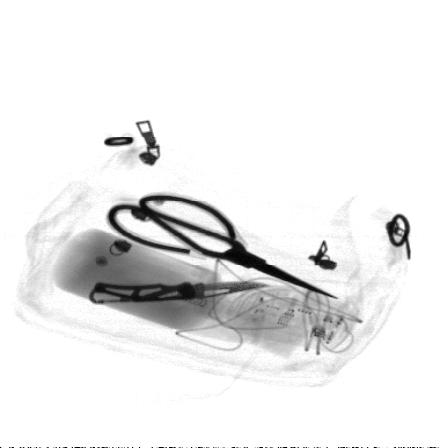Knife: (90, 282, 273, 303)
Scissors: (107, 194, 341, 299)
